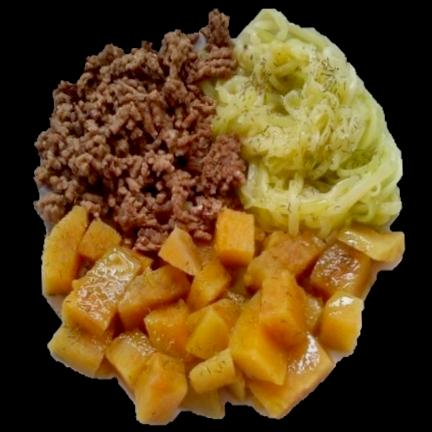meat: (35, 11, 245, 255)
pasta: (207, 9, 402, 235)
